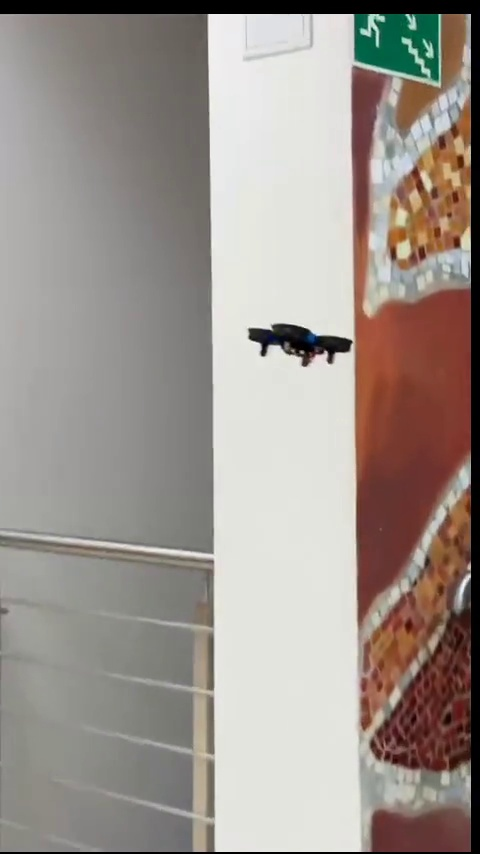drone: (254, 321, 360, 367)
